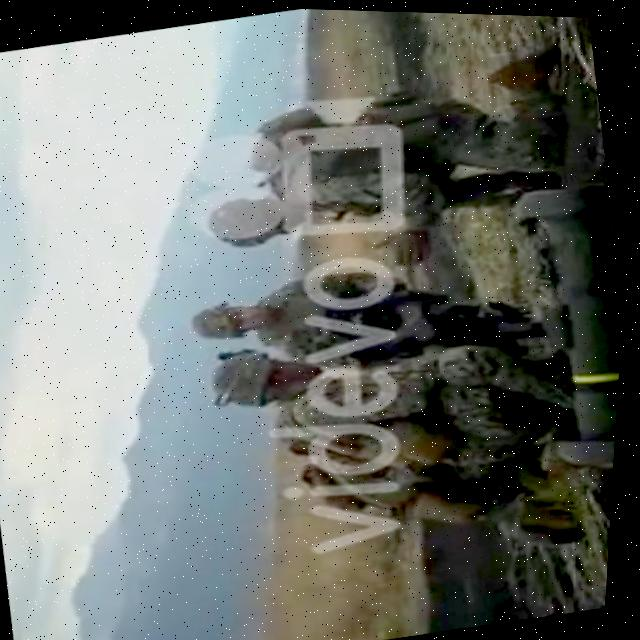rocket: (476, 173, 633, 480)
